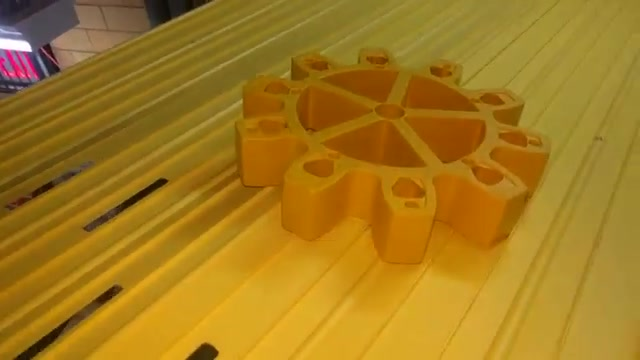gear: (227, 33, 563, 273)
